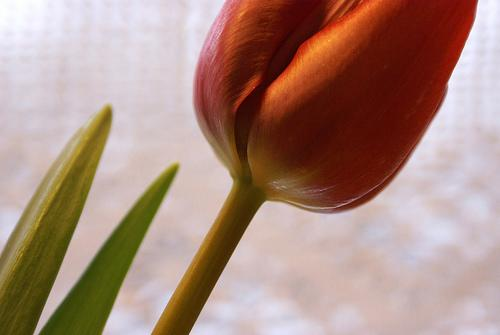tulip: (191, 0, 481, 213)
